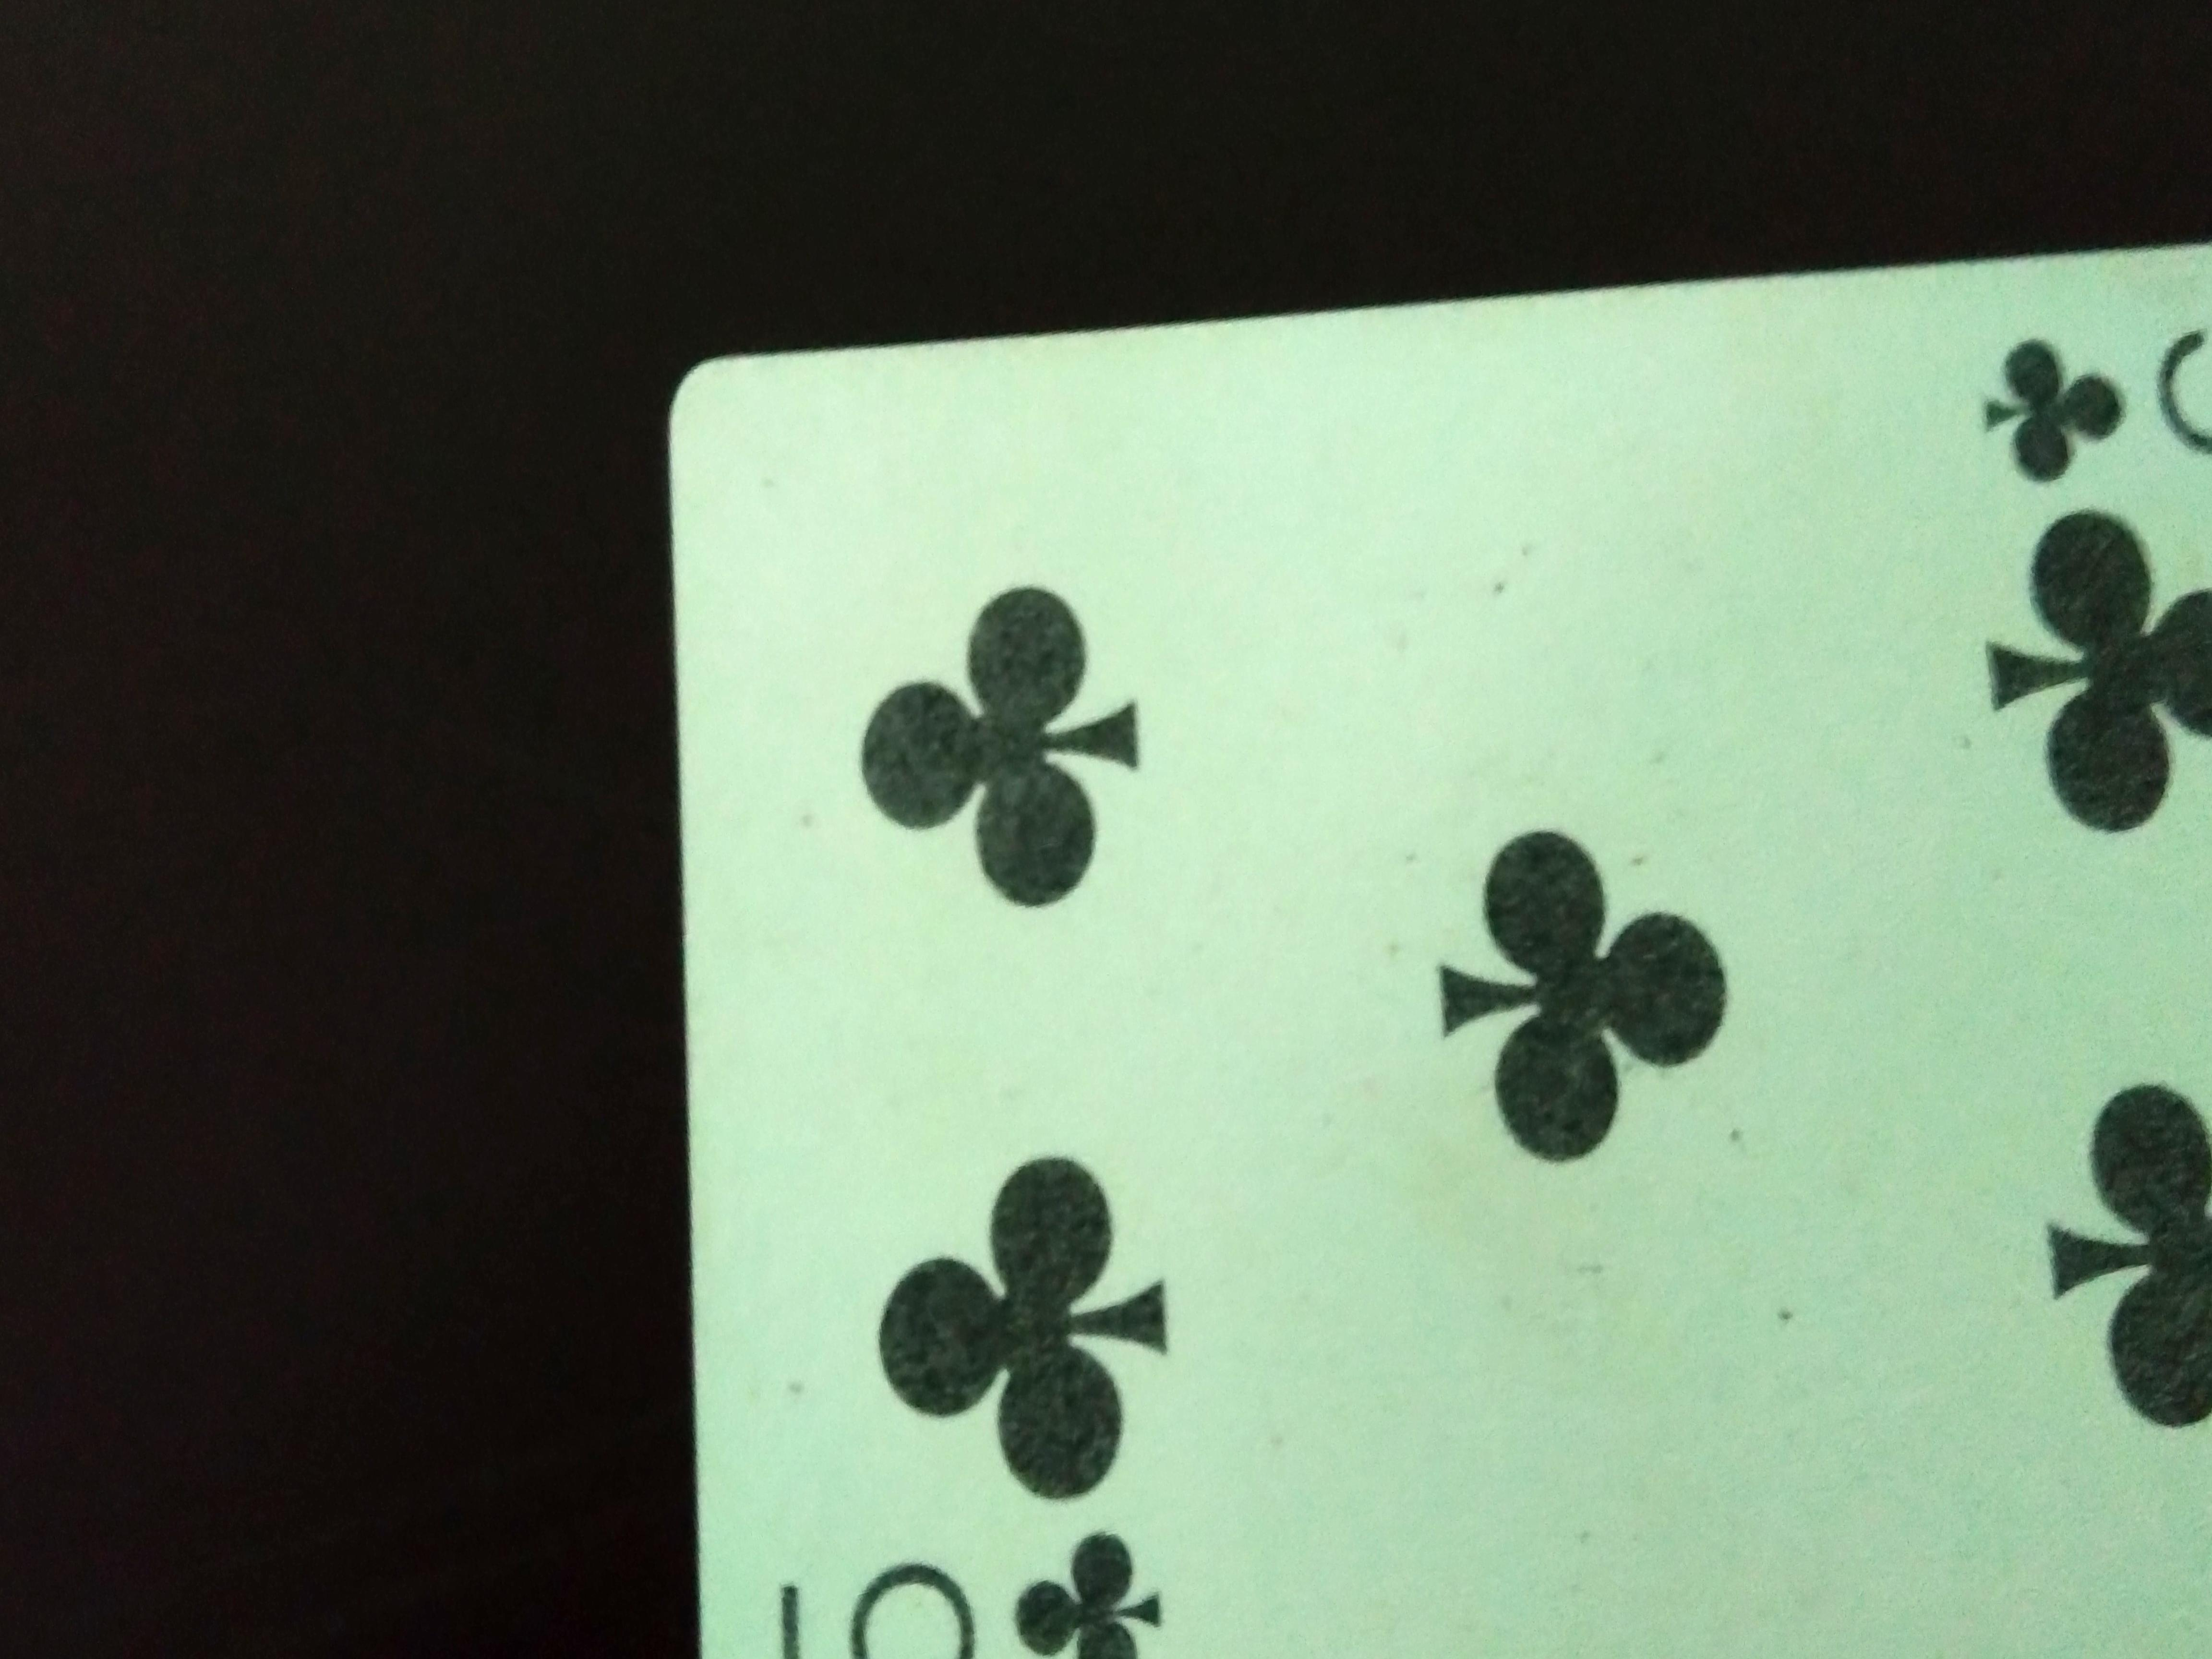5C: (747, 1546, 1219, 1652)
